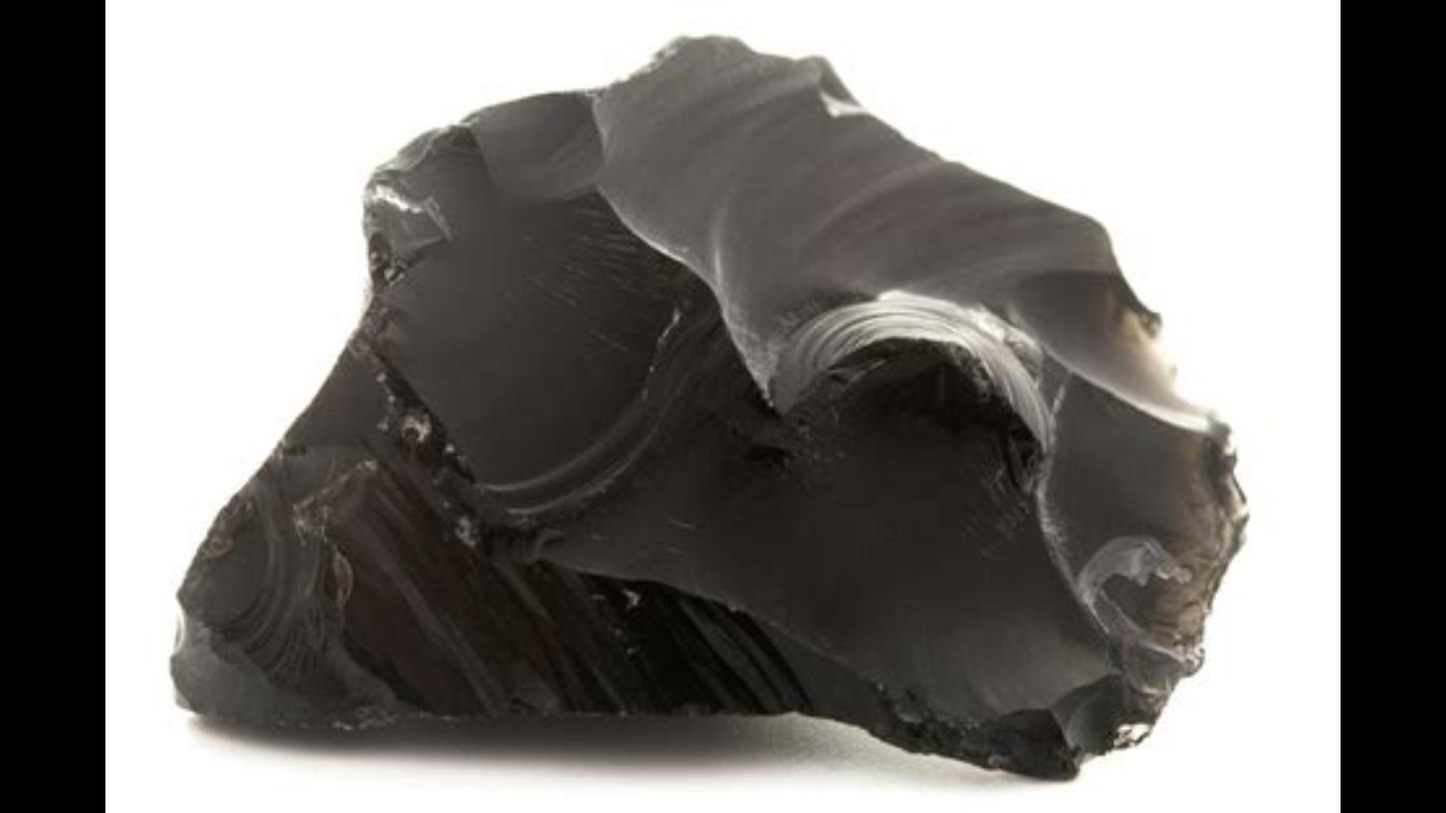rock: (173, 39, 1242, 777)
